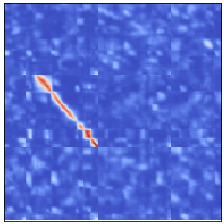action_path: (22, 75, 97, 149)
